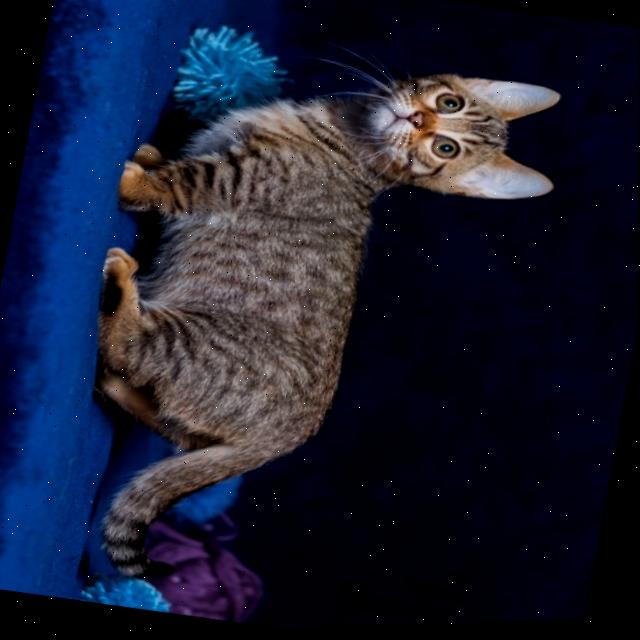Munchkin: (43, 13, 578, 639)
